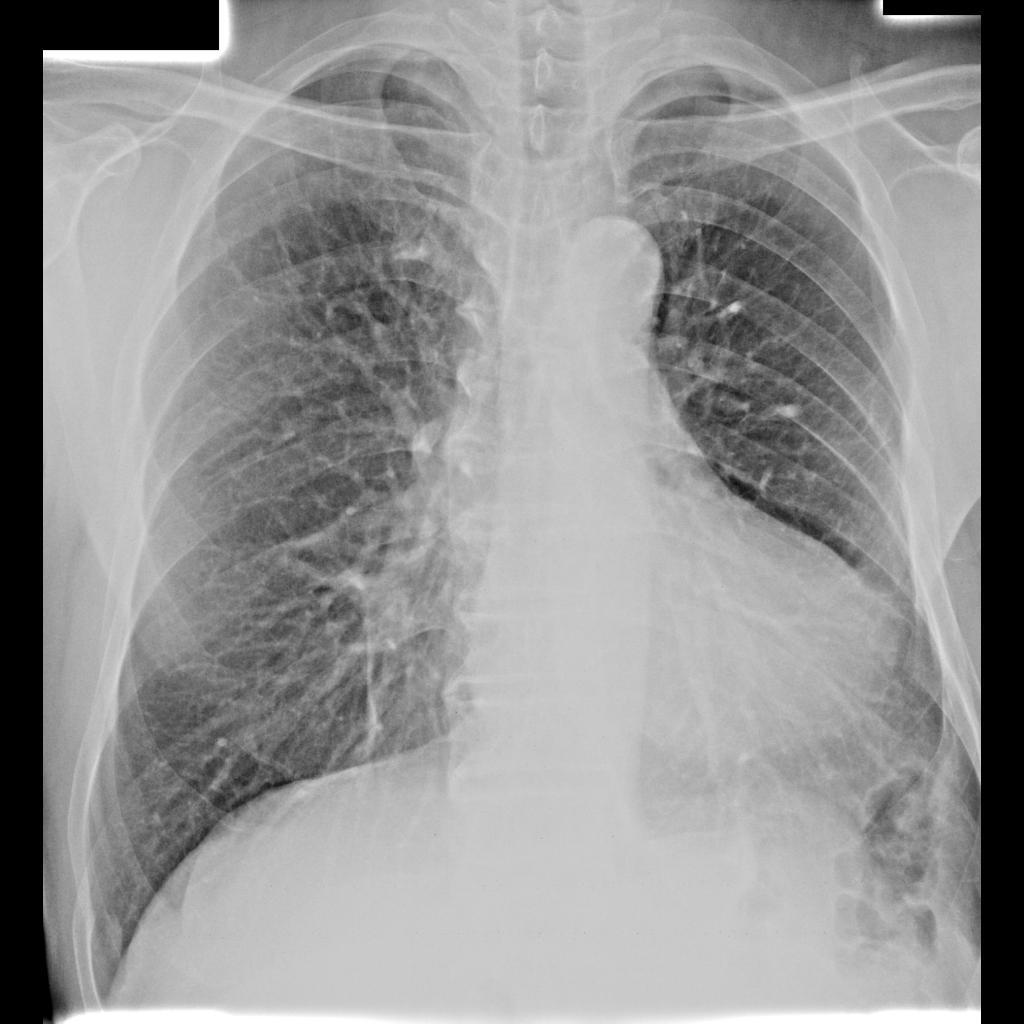Nodule: (350, 575, 424, 649)
